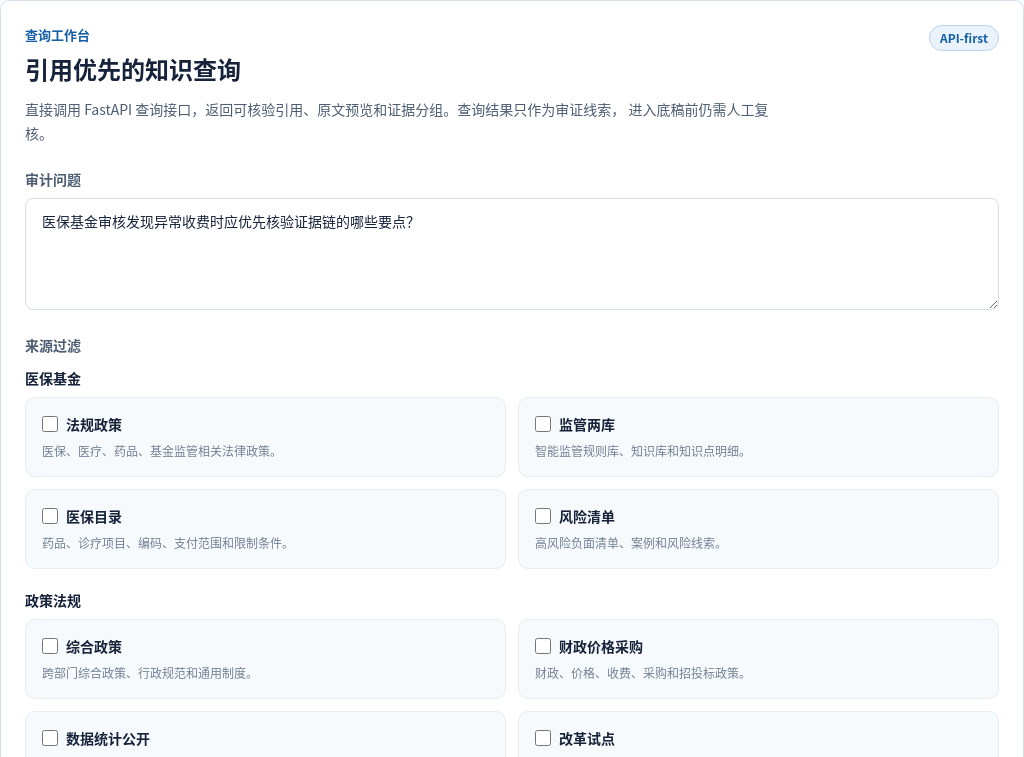
Test: KnowledgeQueryWorkbench › runs a query through the API-first client and renders citations
Replace the text in the text box labelled "审计问题" with "医保基金审核依据" at [512, 254], box [25, 198, 999, 310]
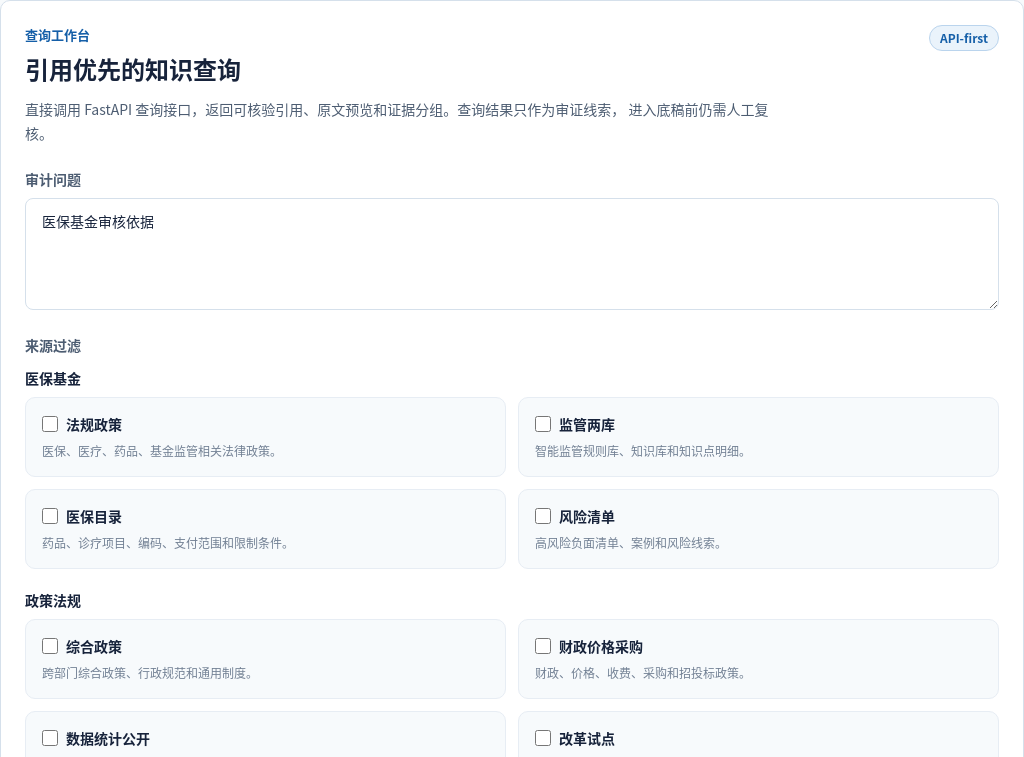
Click the checkbox labelled "法规政策 医保、医疗、药品、基金监管相关法律政策。" at [50, 424], box [42, 416, 58, 432]
(page scrolled)
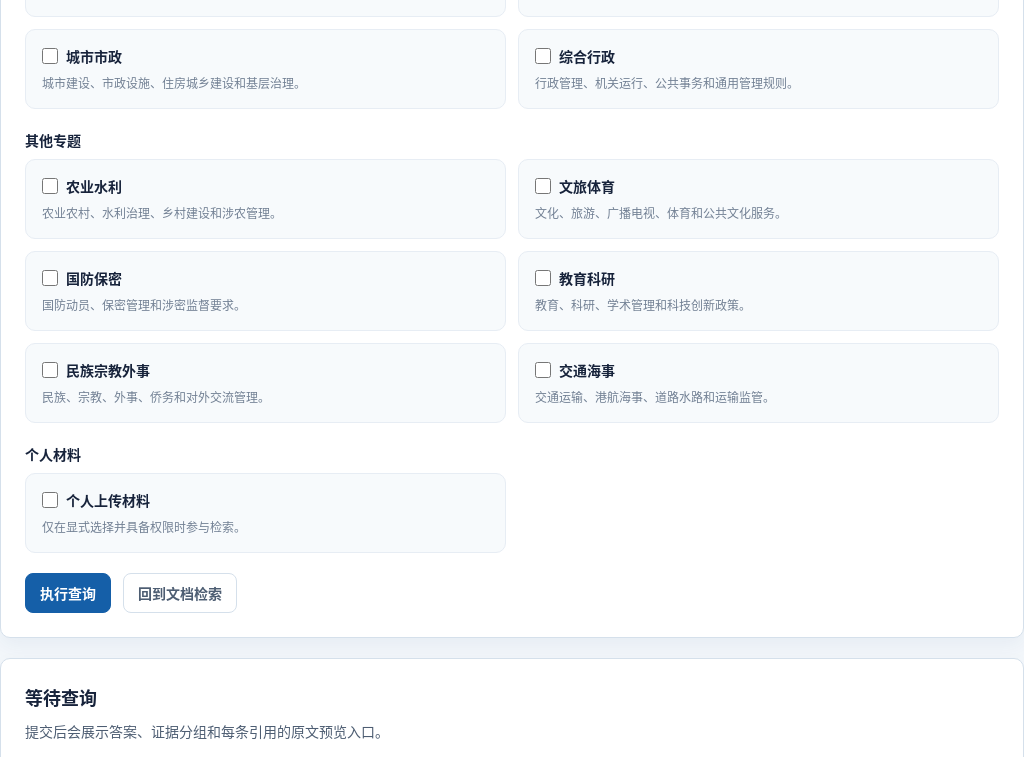
Click the button "执行查询" at [68, 593], box [25, 573, 111, 613]
(page scrolled)
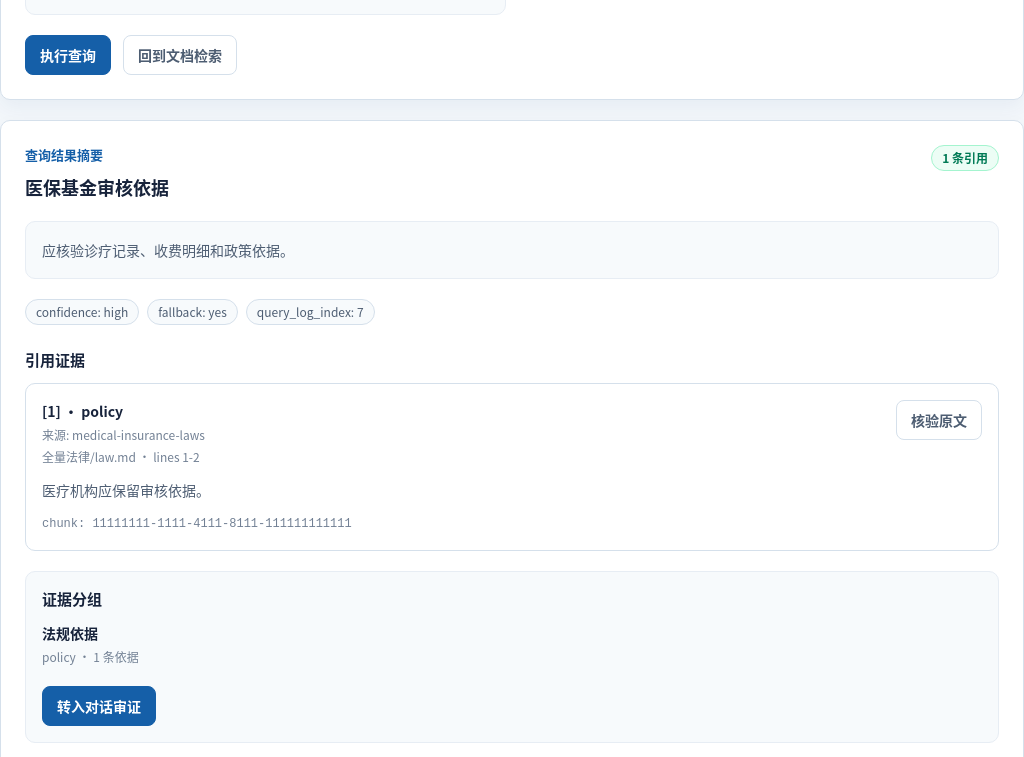
Now the heading "医保基金审核依据" is shown, box [25, 173, 169, 201]
Now the text "应核验诊疗记录、收费明细和政策依据。" is shown, box [25, 221, 999, 279]
Now the text "来源: medical-insurance-laws" is shown, box [42, 426, 205, 444]
